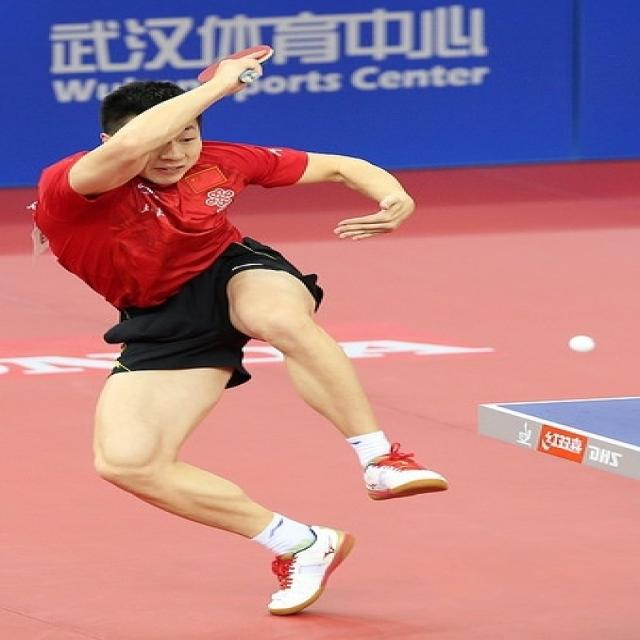TT Racket: (182, 28, 295, 105)
TT Table: (483, 394, 638, 454)
